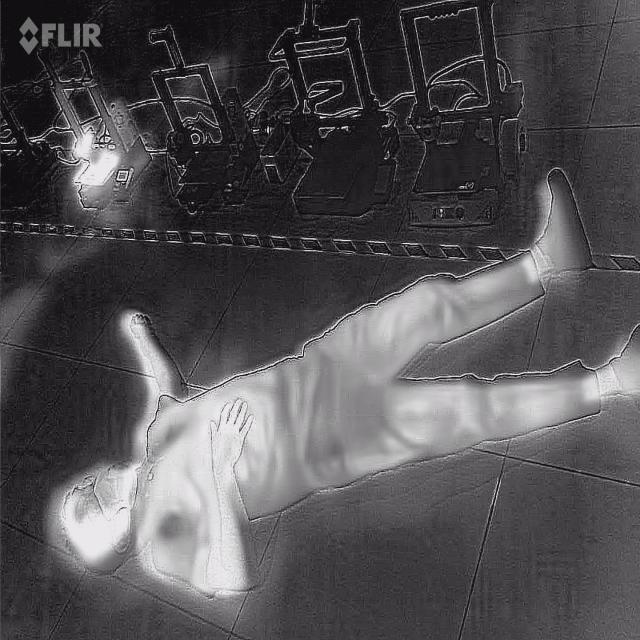Victim: (57, 160, 639, 602)
